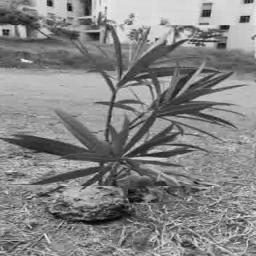OLEANDER: (0, 25, 255, 187)
